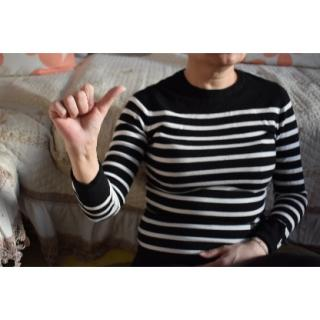DAD: (45, 80, 126, 151)
